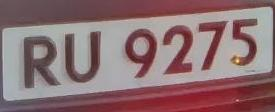2: (159, 18, 199, 81)
5: (228, 13, 262, 73)
7: (194, 15, 231, 76)
9: (120, 20, 163, 87)
R: (16, 33, 64, 94)
U: (58, 25, 107, 91)
